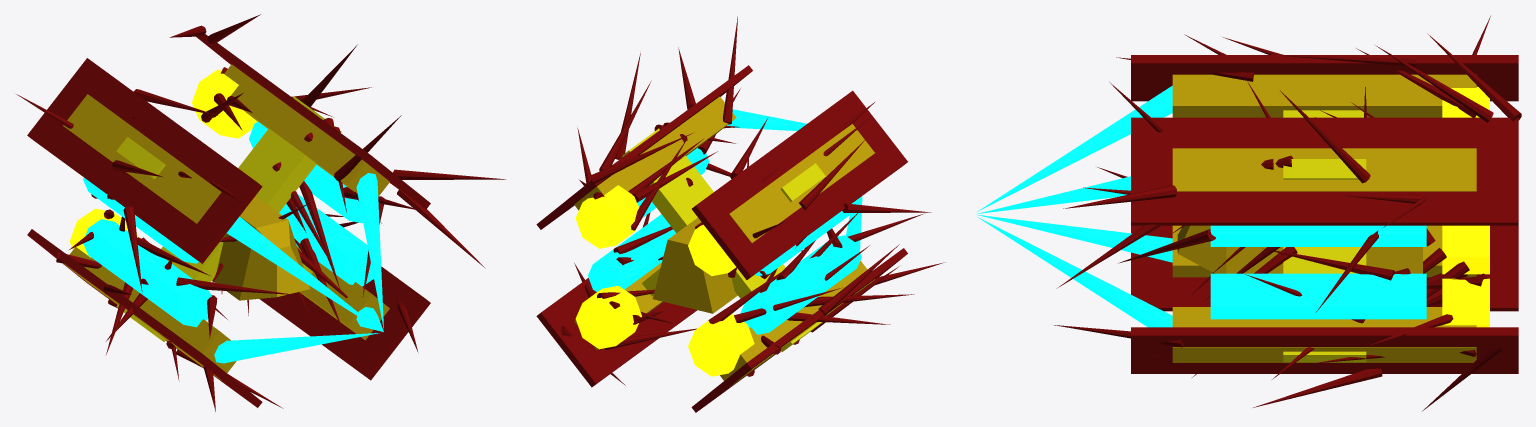
File: DFA.dae
3 views of the same model, side by side, from view 1: azimuth 30°, elevation 25°; view 2: azimuth 150°, elevation 25°; view 3: azimuth 270°, elevation 25° (orthographic). The views are drawn at different scales.
Parts seen in each view (by area): view 1: DFA; view 2: DFA; view 3: DFA.
Boxes of the visible parts, x1,y1,x2,y2 form: DFA: [16, 14, 505, 411]; DFA: [536, 16, 944, 412]; DFA: [976, 16, 1521, 411].
Size of the model in its own units: 1159 by 1081 by 1461.
